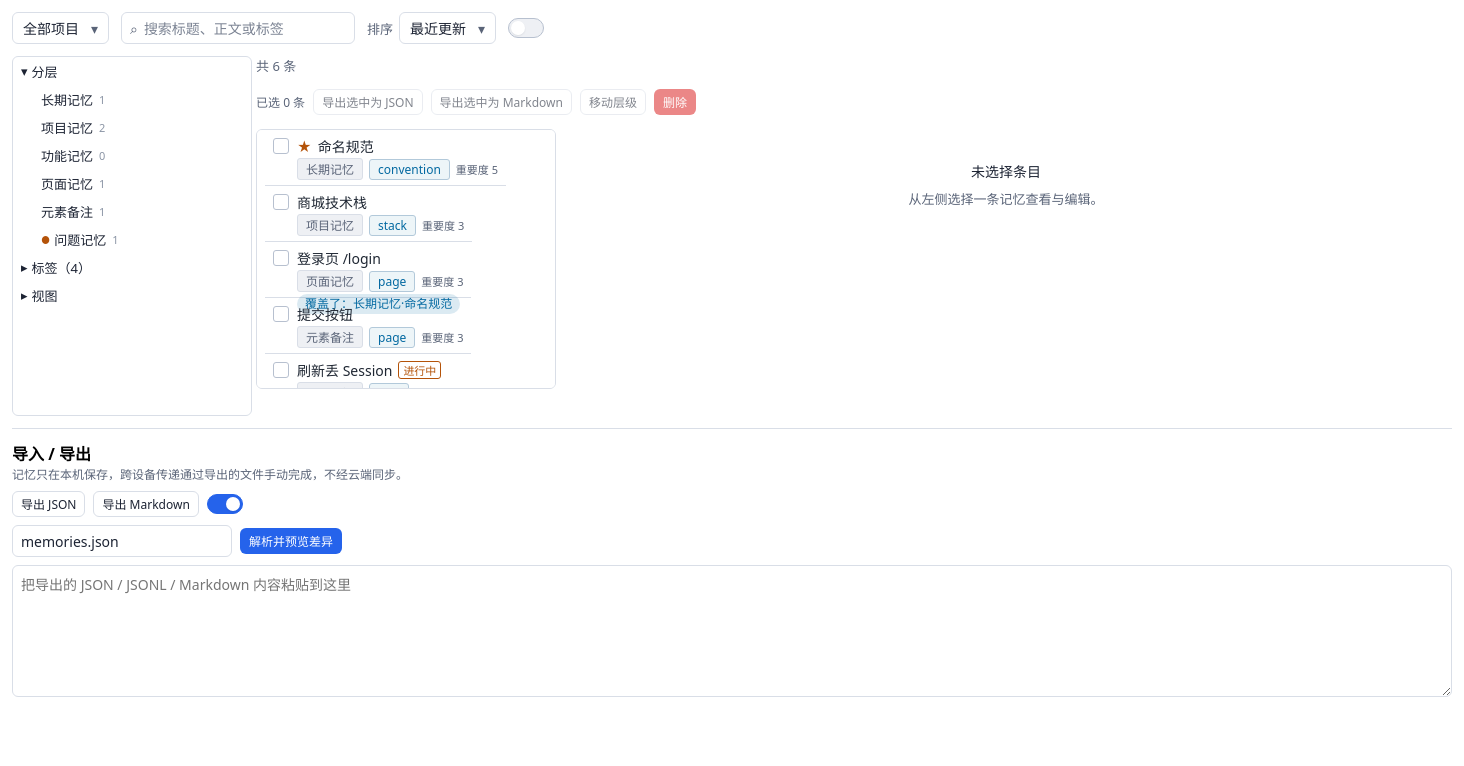
Test case: 记忆中心 › Markdown 编辑与预览即时同步，保存后标题与正文更新
This screenshot has width=1464, height=766.
Click the text "命名规范" at (335, 146), box [297,136,374,156]
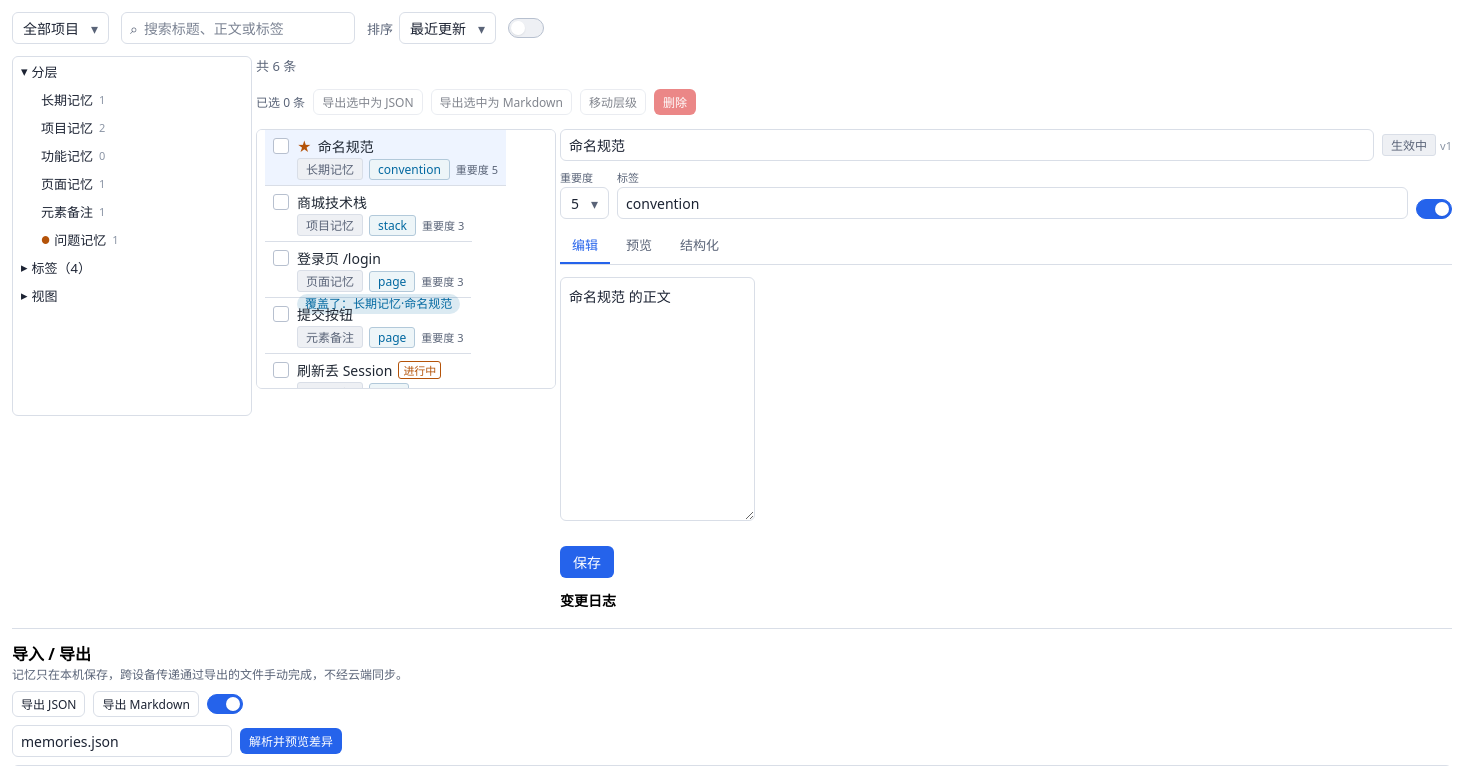
Replace the text in the field named "记忆标题" with "命名规范（更新）" at (967, 145), box [569,130,1365,160]
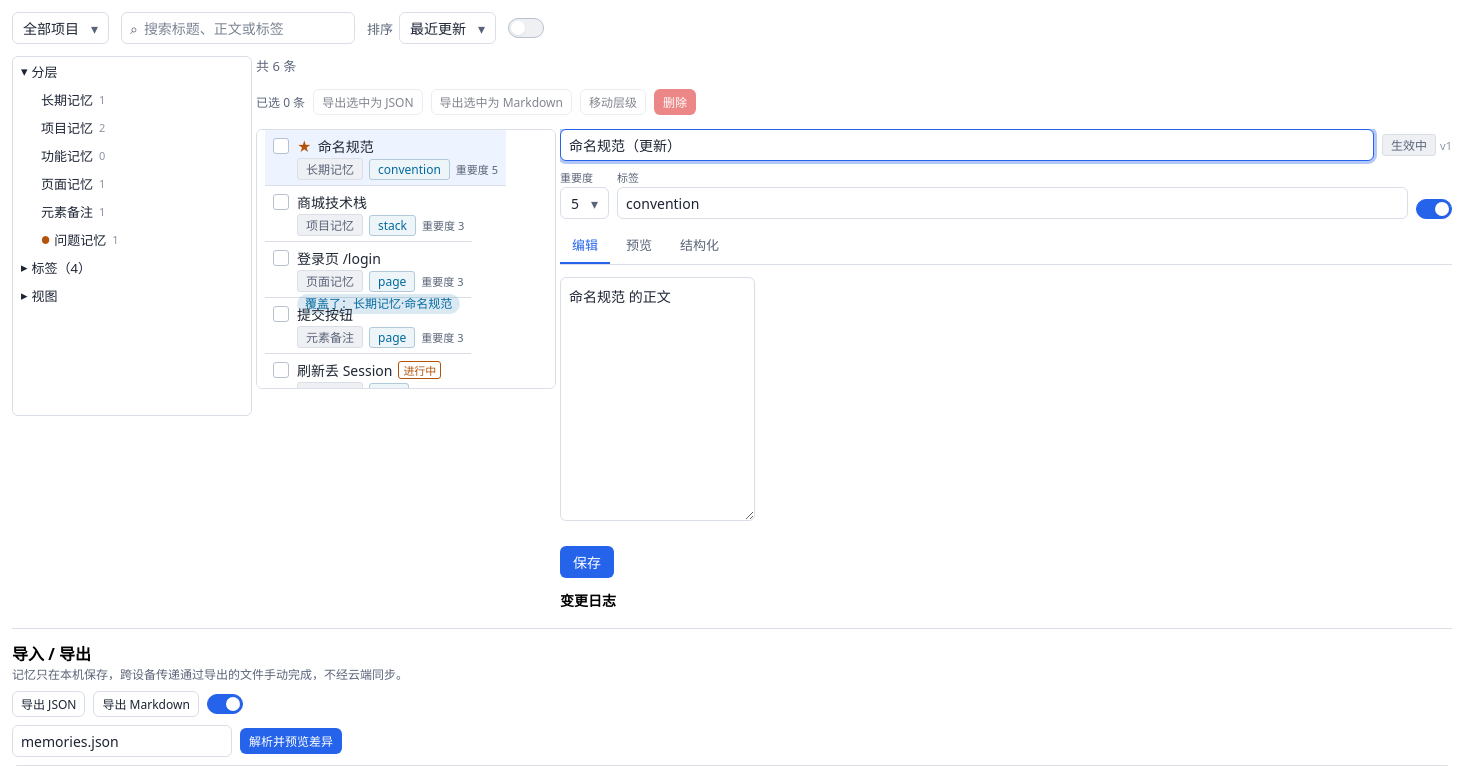
Click the tab "预览" at (639, 246), box [614,227,664,264]
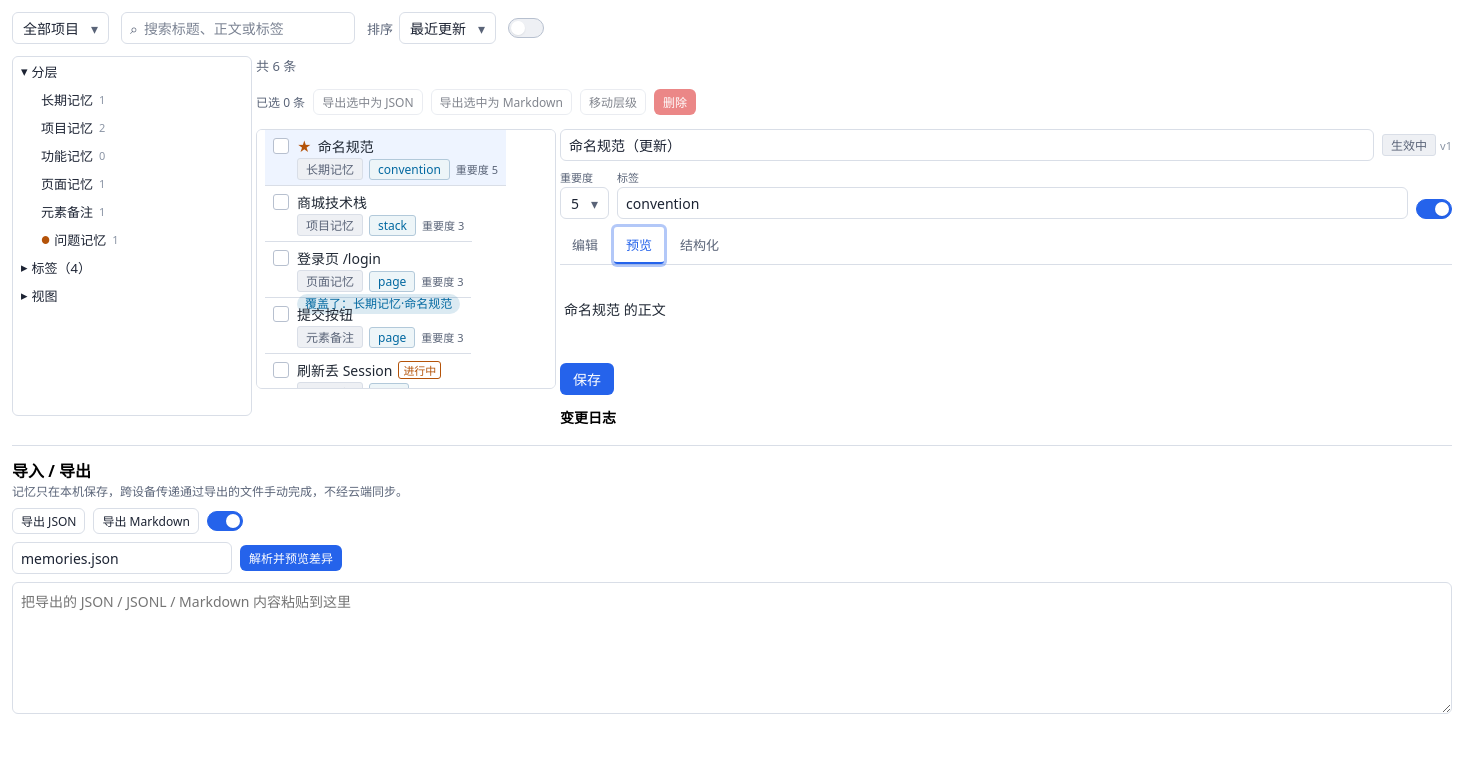
Expected: the element with test id "markdown-preview" is shown, [564,300,666,319]
Click the button "保存" at (587, 379), box [560,363,614,395]
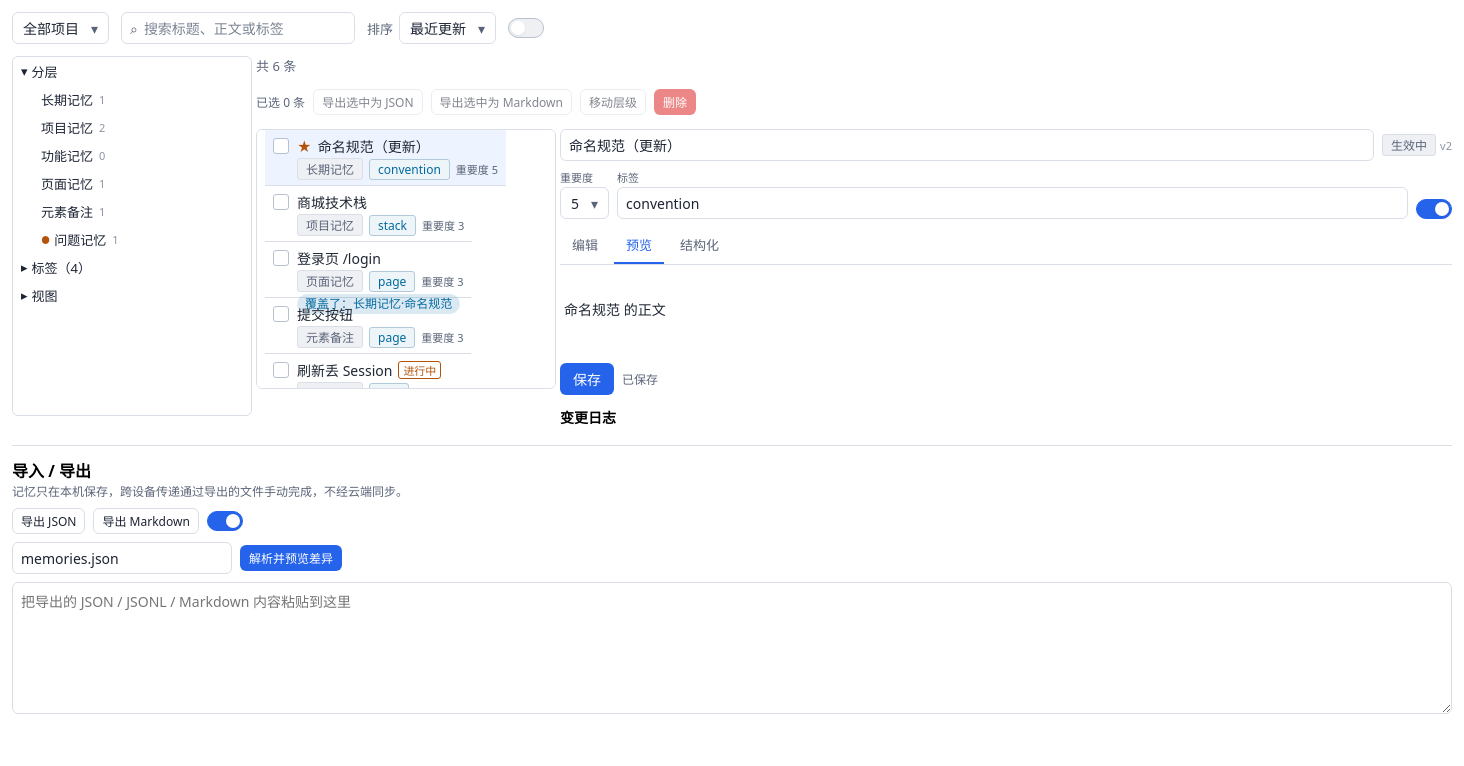
Expected: the message reads "已保存", [622,371,658,388]
